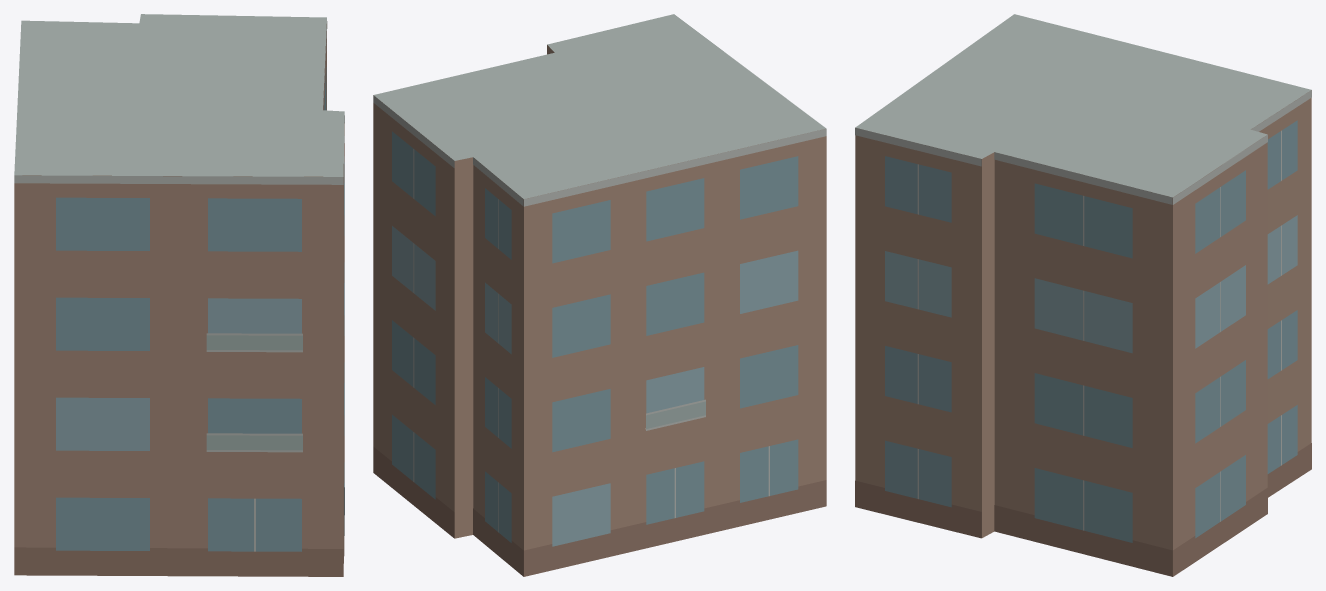
File: survey-upis-32684623.glb
3 renders of one model, left to right at view 1: azimuth 30°, elevation 25°; view 2: azimuth 150°, elevation 25°; view 3: azimuth 270°, elevation 25°, orthographic. The views are drawn at different scales.
Parts seen in each view (by area): view 1: survey-upis-32684623.tmp; view 2: survey-upis-32684623.tmp; view 3: survey-upis-32684623.tmp.
Boxes of the visible parts, box(x1,y1,x2,y2) form: survey-upis-32684623.tmp: box(14, 14, 344, 576); survey-upis-32684623.tmp: box(373, 14, 826, 576); survey-upis-32684623.tmp: box(855, 14, 1311, 576).
Bounding box in the file's own units: 12.66 × 12.2 × 13.32.
